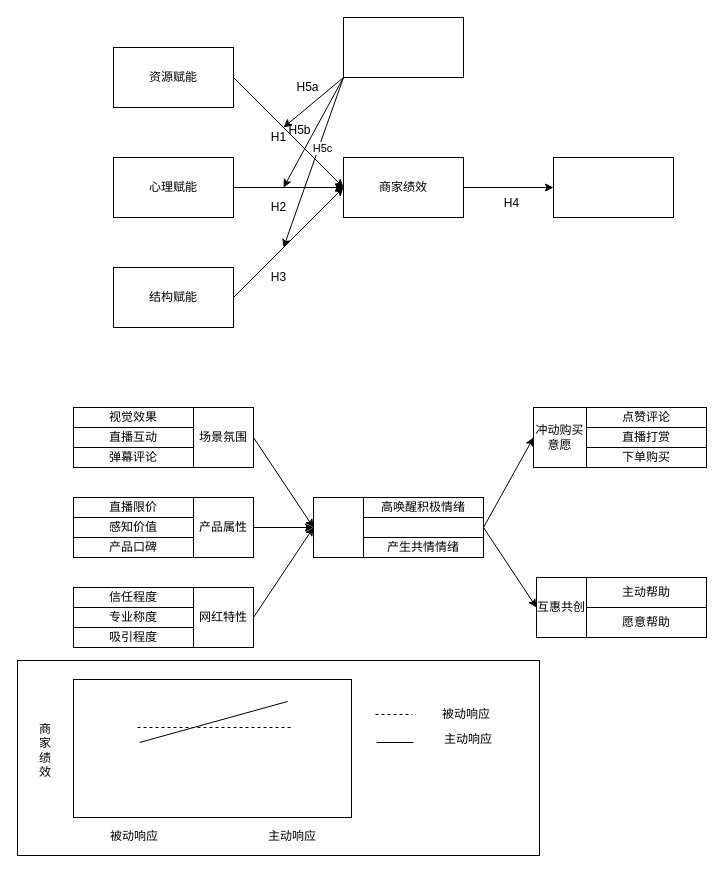
This 724x873 diagram has some shape labels left out. The centre of each missing label's shape, as x and y in pixels:
价值共创: [613,187]
低唤起积极情绪: [423,527]
响应方式: [403,47]
情绪: [338,527]
